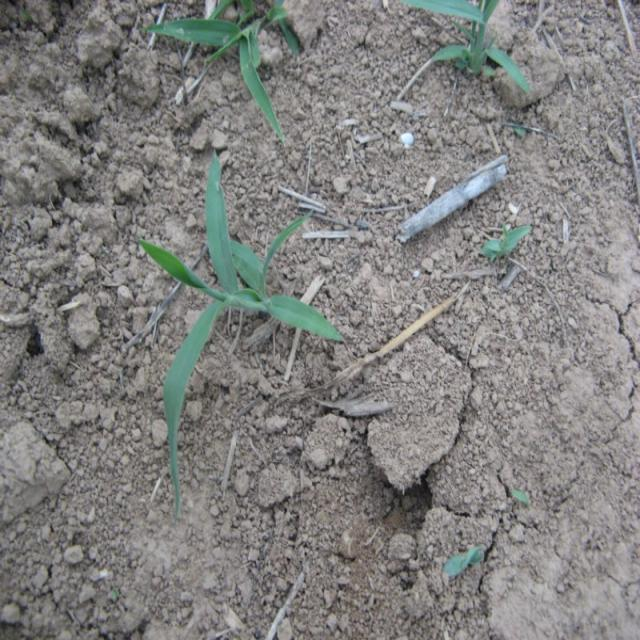bg: (138, 155, 353, 481)
